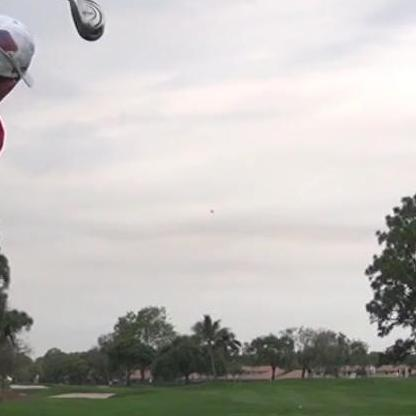golfball: (207, 207, 212, 212)
